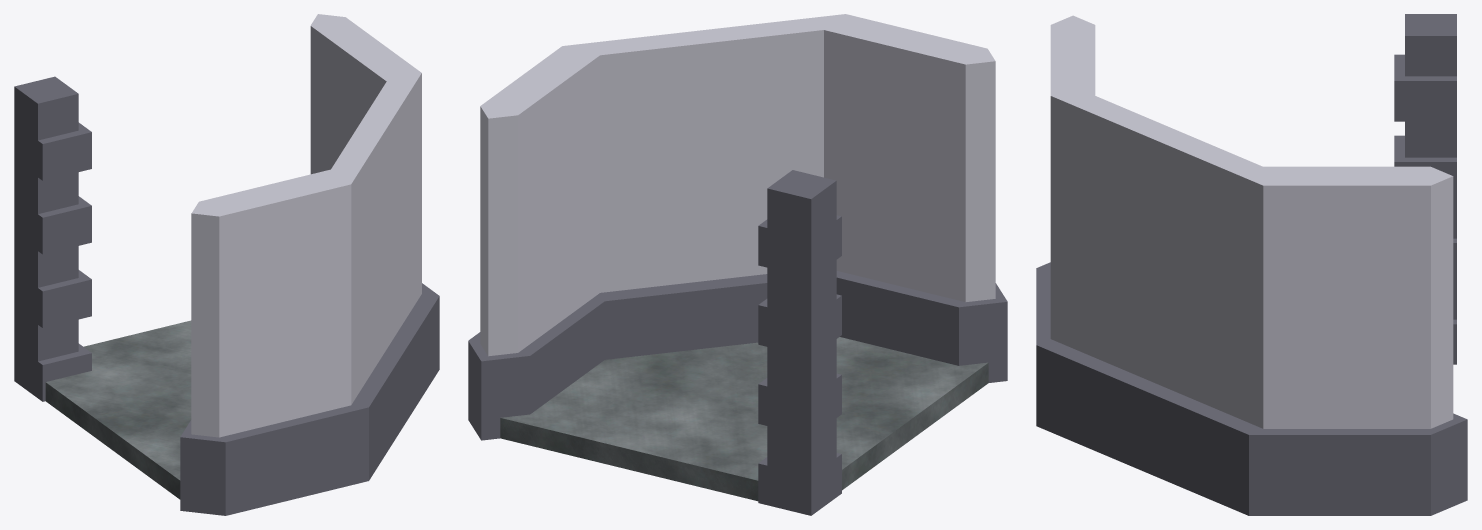
Rendered from sm_corner_01.fbx.
3 views of the same model, side by side, from view 1: azimuth 30°, elevation 25°; view 2: azimuth 150°, elevation 25°; view 3: azimuth 270°, elevation 25° (orthographic). The views are drawn at different scales.
Parts seen in each view (by area): view 1: corner_02_0, wall_borderBricks_2, floor_corner_1; view 2: corner_02_0, floor_corner_1, wall_borderBricks_2; view 3: corner_02_0, wall_borderBricks_2.
Boxes of the visible parts, x1,y1,x2,y2 form: corner_02_0: (180, 14, 439, 515); wall_borderBricks_2: (14, 76, 91, 401); floor_corner_1: (45, 320, 191, 499); corner_02_0: (468, 14, 1007, 440); floor_corner_1: (500, 337, 988, 501); wall_borderBricks_2: (758, 170, 841, 515); corner_02_0: (1036, 15, 1467, 515); wall_borderBricks_2: (1394, 14, 1456, 364).
Bounding box in the file's own units: 12.05 × 10 × 12.05.
